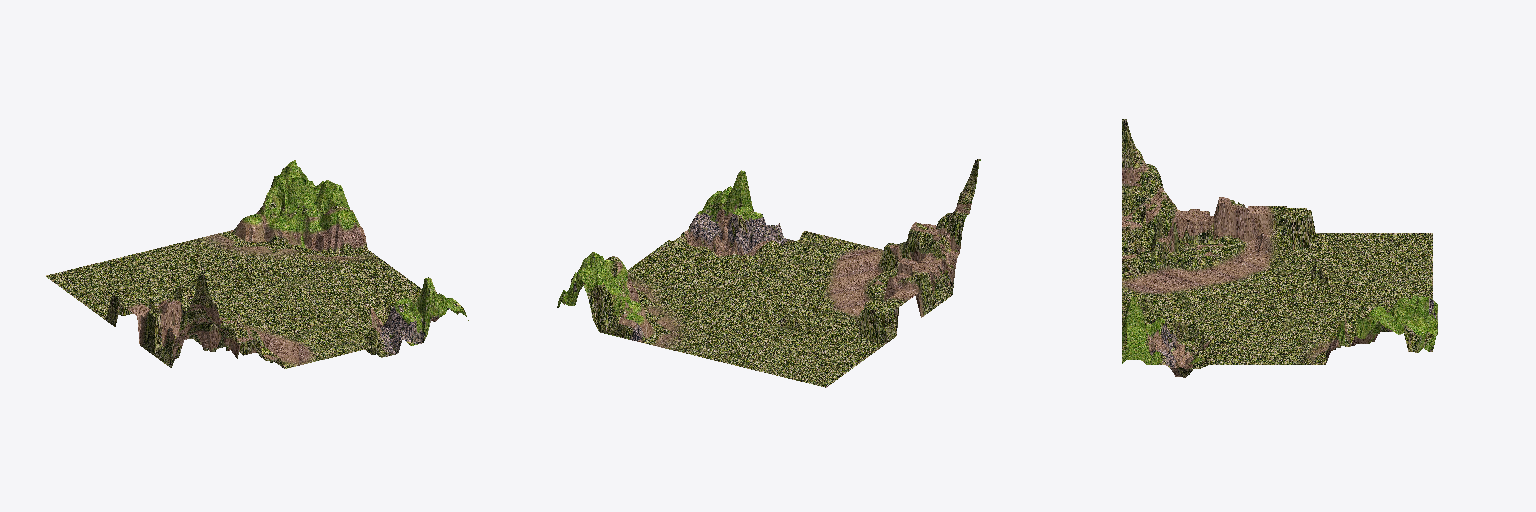
The picture shows the model from 3 angles: view 1: azimuth 30°, elevation 25°; view 2: azimuth 150°, elevation 25°; view 3: azimuth 270°, elevation 25°; orthographic projection.
Parts seen in each view (by area): view 1: Plane_Plane.001; view 2: Plane_Plane.001; view 3: Plane_Plane.001.
Part boxes in pixels (bbox=[...]): Plane_Plane.001: bbox=[46, 160, 468, 368]; Plane_Plane.001: bbox=[557, 159, 980, 387]; Plane_Plane.001: bbox=[1122, 119, 1437, 377].
Size of the model in its own units: 54.09 by 27.34 by 55.03.
Materials: 1 (1 with a texture image).